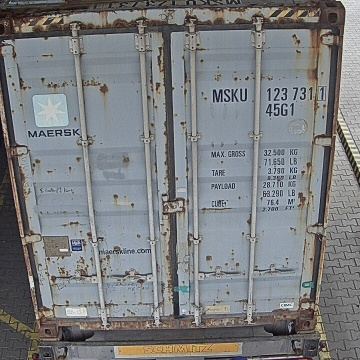serial_id: (213, 87, 326, 101)
